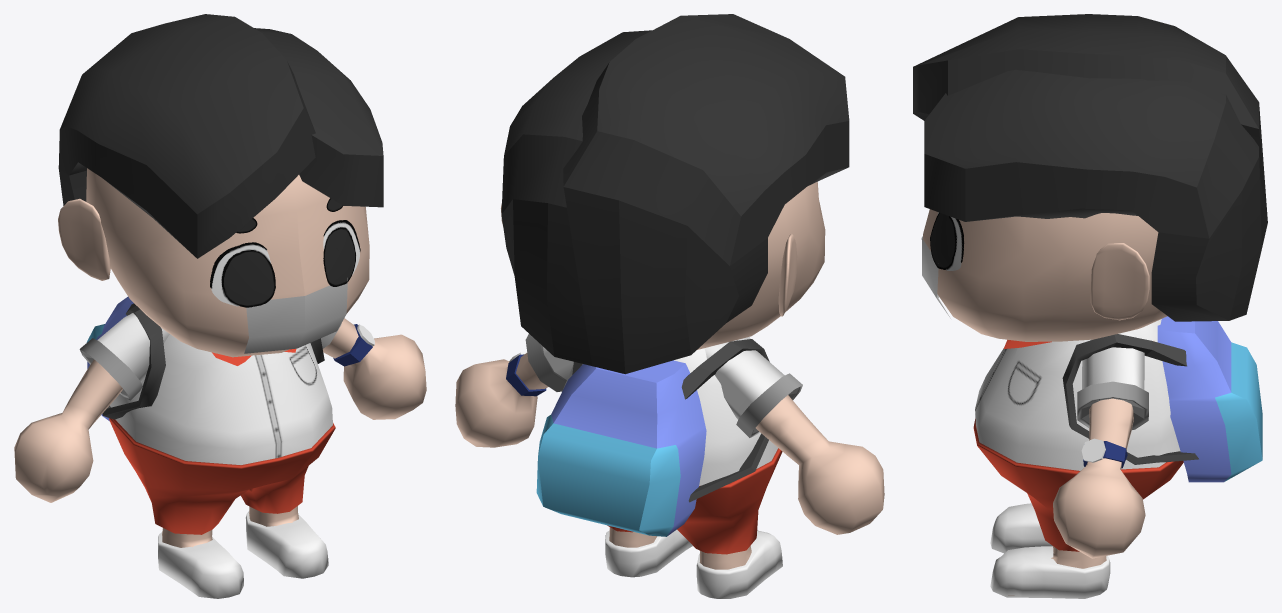
The model's file is Student_Boy V4.fbx.
3 views of the same model, side by side, from view 1: azimuth 30°, elevation 25°; view 2: azimuth 150°, elevation 25°; view 3: azimuth 270°, elevation 25° (orthographic). The views are drawn at different scales.
Visible parts, largest first — view 1: Hair_v2_7, polySurface4, shirt_n_pants, eyes, mouth, pCube31, pCube32, pCylinder9, pCube10, pCube2, pCylinder3; view 2: Hair_v2_7, pCube2, polySurface4, shirt_n_pants, pCylinder9, pCube31, pCube10, pCube32, pCylinder4, pCylinder3; view 3: Hair_v2_7, polySurface4, shirt_n_pants, pCube2, pCube32, pCylinder4, pCube11, pCube31, eyes, mouth, pCube8.
Part boxes in pixels (x1=…): Hair_v2_7: x1=58, y1=14, x2=383, y2=258; polySurface4: x1=14, y1=168, x2=426, y2=547; shirt_n_pants: x1=109, y1=334, x2=335, y2=534; eyes: x1=210, y1=198, x2=360, y2=307; mouth: x1=244, y1=278, x2=347, y2=353; pCube31: x1=158, y1=532, x2=243, y2=598; pCube32: x1=245, y1=511, x2=328, y2=578; pCylinder9: x1=79, y1=313, x2=169, y2=400; pCube10: x1=102, y1=303, x2=165, y2=419; pCube2: x1=86, y1=296, x2=133, y2=421; pCylinder3: x1=333, y1=324, x2=372, y2=366; Hair_v2_7: x1=501, y1=14, x2=849, y2=374; pCube2: x1=536, y1=360, x2=706, y2=536; polySurface4: x1=455, y1=182, x2=884, y2=569; shirt_n_pants: x1=563, y1=337, x2=782, y2=554; pCylinder9: x1=704, y1=340, x2=802, y2=437; pCube31: x1=696, y1=530, x2=782, y2=598; pCube10: x1=681, y1=339, x2=769, y2=502; pCube32: x1=605, y1=529, x2=692, y2=577; pCylinder4: x1=525, y1=334, x2=573, y2=391; pCylinder3: x1=506, y1=354, x2=546, y2=396; Hair_v2_7: x1=913, y1=14, x2=1267, y2=321; polySurface4: x1=923, y1=209, x2=1167, y2=595; shirt_n_pants: x1=973, y1=319, x2=1183, y2=551; pCube2: x1=1157, y1=316, x2=1262, y2=482; pCube32: x1=990, y1=546, x2=1110, y2=598; pCylinder4: x1=1077, y1=332, x2=1148, y2=429; pCube11: x1=1062, y1=334, x2=1198, y2=464; pCube31: x1=990, y1=503, x2=1052, y2=553; eyes: x1=930, y1=212, x2=964, y2=270; mouth: x1=921, y1=236, x2=950, y2=318; pCube8: x1=1081, y1=438, x2=1105, y2=462.
Size of the model in its own units: 5.07 by 6.04 by 3.67.
